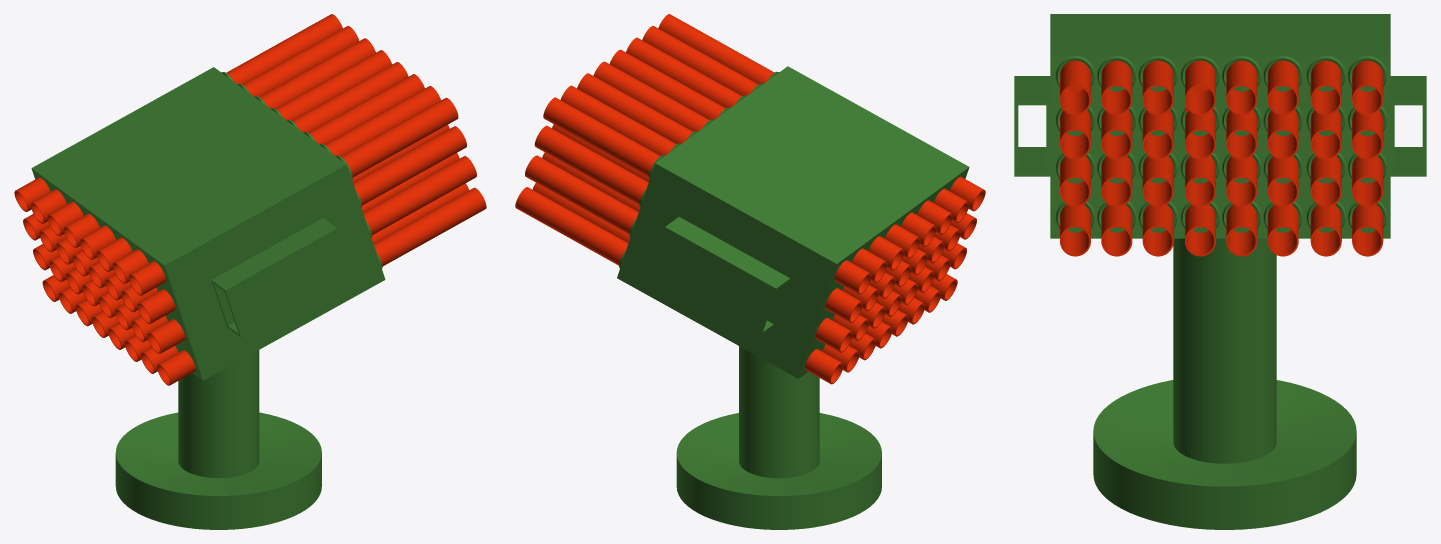
The model's file is nova kacusa.fbx.
The picture shows the model from 3 angles, left to right: view 1: azimuth 30°, elevation 25°; view 2: azimuth 150°, elevation 25°; view 3: azimuth 270°, elevation 25°; orthographic projection. The views are drawn at different scales.
Parts seen in each view (by area): view 1: Cube.001, Cylinder; view 2: Cube.001, Cylinder; view 3: Cube.001, Cylinder.
Boxes of the visible parts, x1,y1,x2,y2 form: Cube.001: (14, 14, 486, 385); Cylinder: (115, 350, 321, 529); Cube.001: (515, 14, 985, 384); Cylinder: (676, 346, 881, 529); Cube.001: (1014, 14, 1426, 256); Cylinder: (1093, 238, 1356, 529).
Size of the model in its own units: 935 by 992 by 747.
